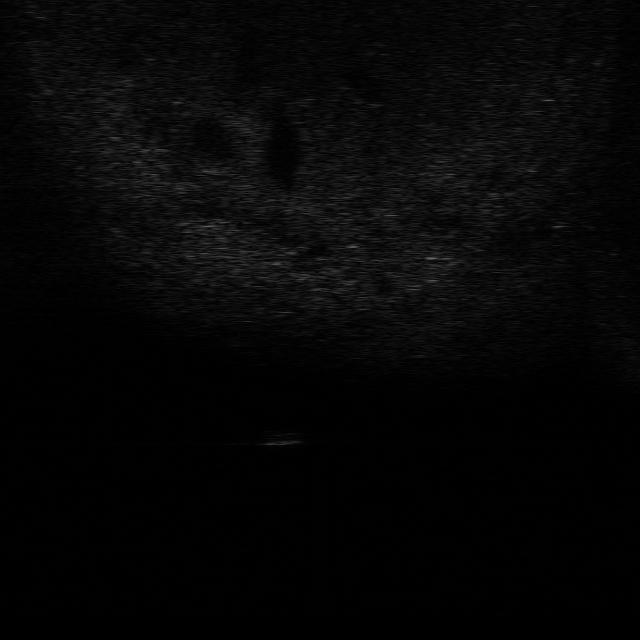cube: (260, 431, 304, 446)
